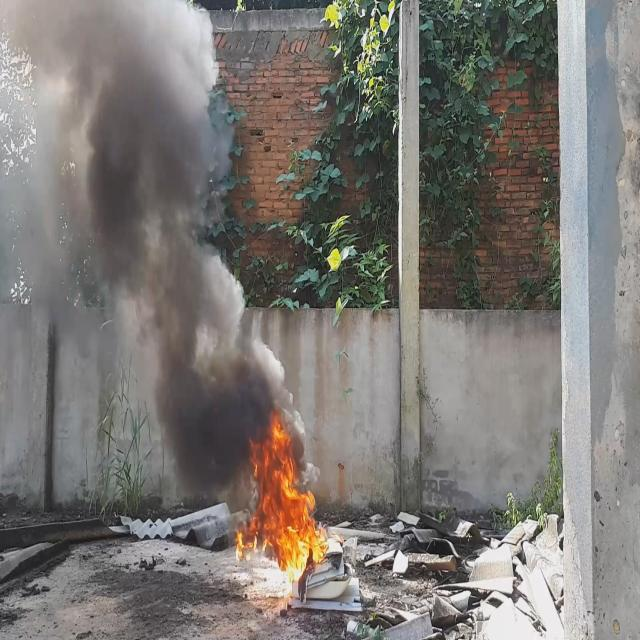Fire: (233, 412, 332, 584)
Smoke: (0, 0, 323, 502)
